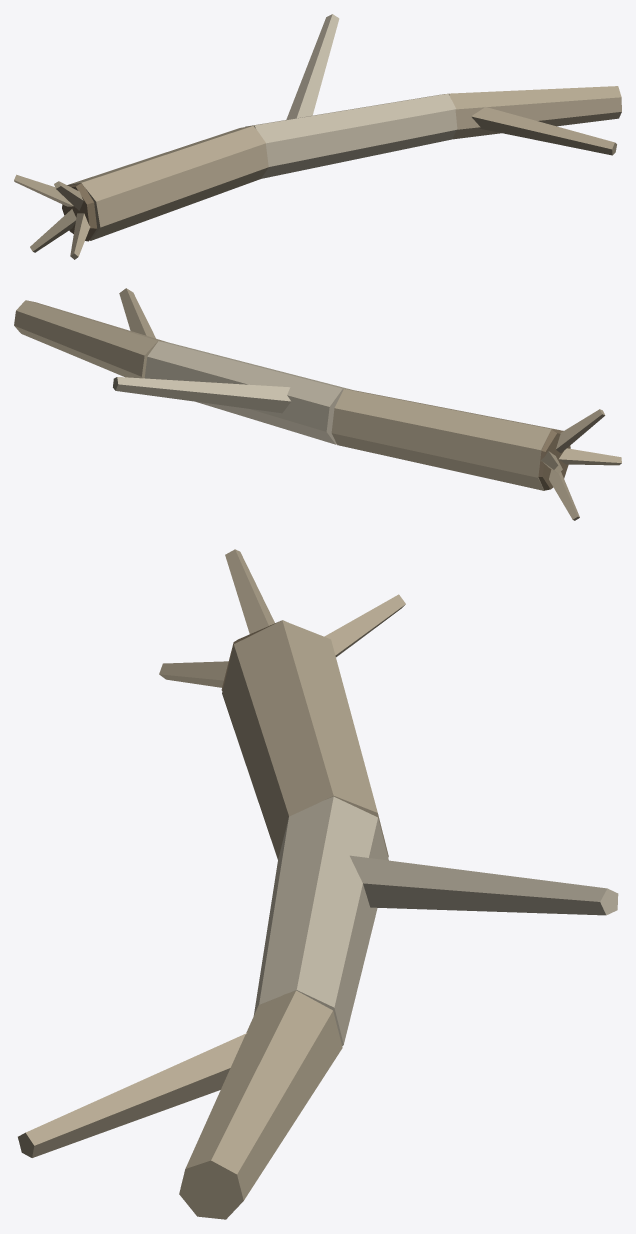
The model's file is driftwood.glb.
The picture shows the model from 3 angles, top to bottom: view 1: azimuth 30°, elevation 25°; view 2: azimuth 150°, elevation 25°; view 3: azimuth 270°, elevation 25°; orthographic projection. The views are drawn at different scales.
Visible parts, largest first — view 1: driftwood; view 2: driftwood; view 3: driftwood.
Part boxes in pixels (x1,y1,x2,y2): driftwood: [14, 14, 621, 259]; driftwood: [14, 288, 621, 520]; driftwood: [18, 549, 618, 1219].
Size of the model in its own units: 4.55 by 0.7641 by 2.11.
